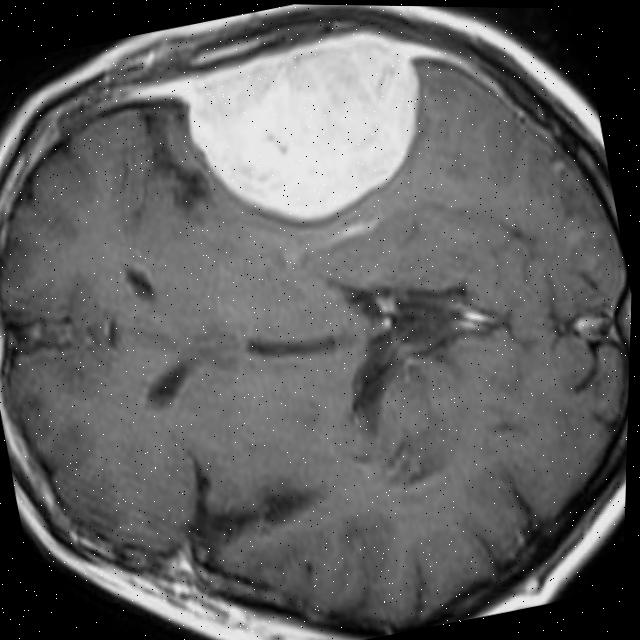Meningioma: (115, 15, 451, 262)
